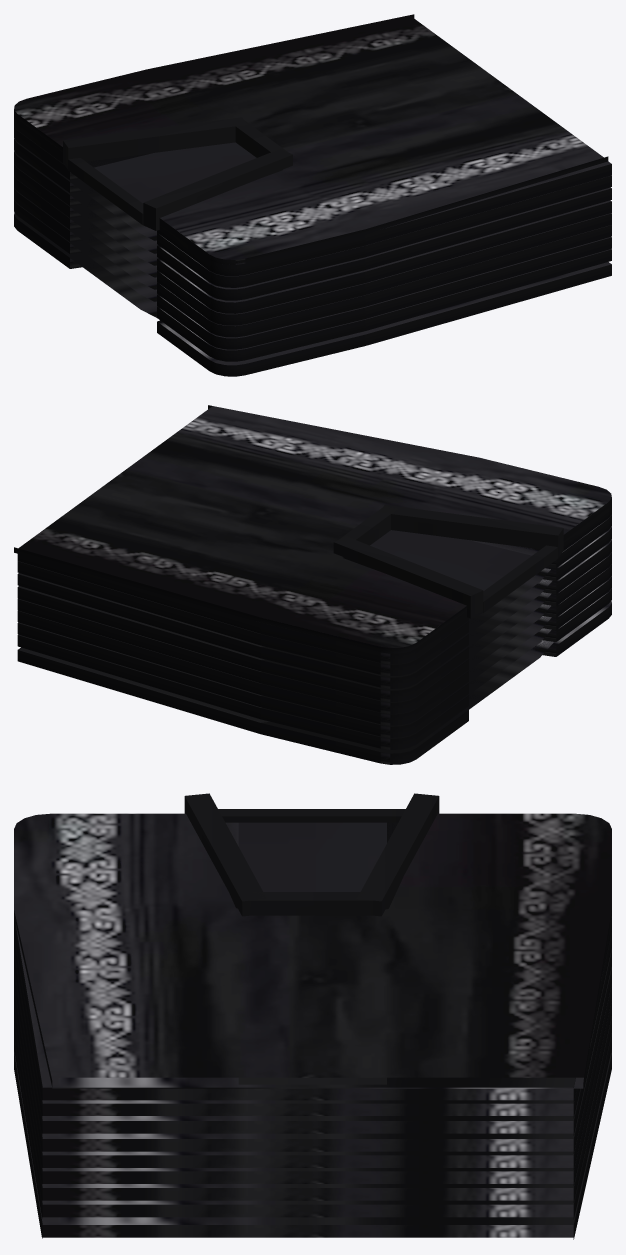
Rendered from Guayabera2_4.obj.
The picture shows the model from 3 angles, top to bottom: view 1: azimuth 30°, elevation 25°; view 2: azimuth 150°, elevation 25°; view 3: azimuth 270°, elevation 25°; orthographic projection. The views are drawn at different scales.
Visible parts, largest first — view 1: Guayabera2; view 2: Guayabera2; view 3: Guayabera2.
Boxes of the visible parts, x1,y1,x2,y2 form: Guayabera2: (14, 14, 611, 376); Guayabera2: (14, 405, 611, 764); Guayabera2: (14, 793, 611, 1239).
Size of the model in its own units: 0.3772 by 0.1129 by 0.35.
Materials: 1 (1 with a texture image).
